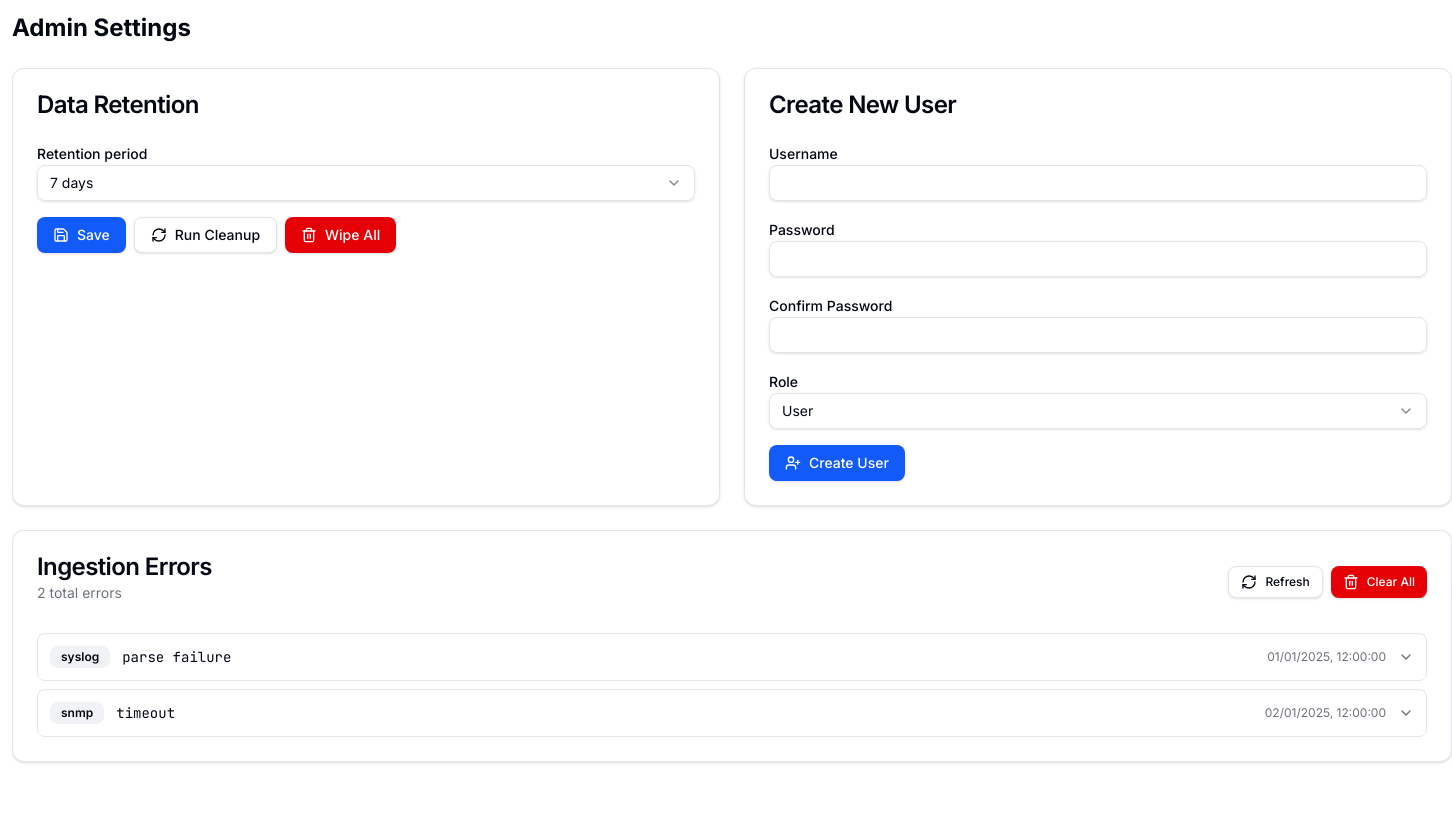
Scenario: AdminSettings - extended coverage › renders ingestion errors with expand/collapse
Expected: the text "timeout" is shown, 116,704 -> 175,722
Click to expand first error - click the button (first matching text is in the button)
Click the text "parse failure" at (177, 657), box 122,648 -> 231,666
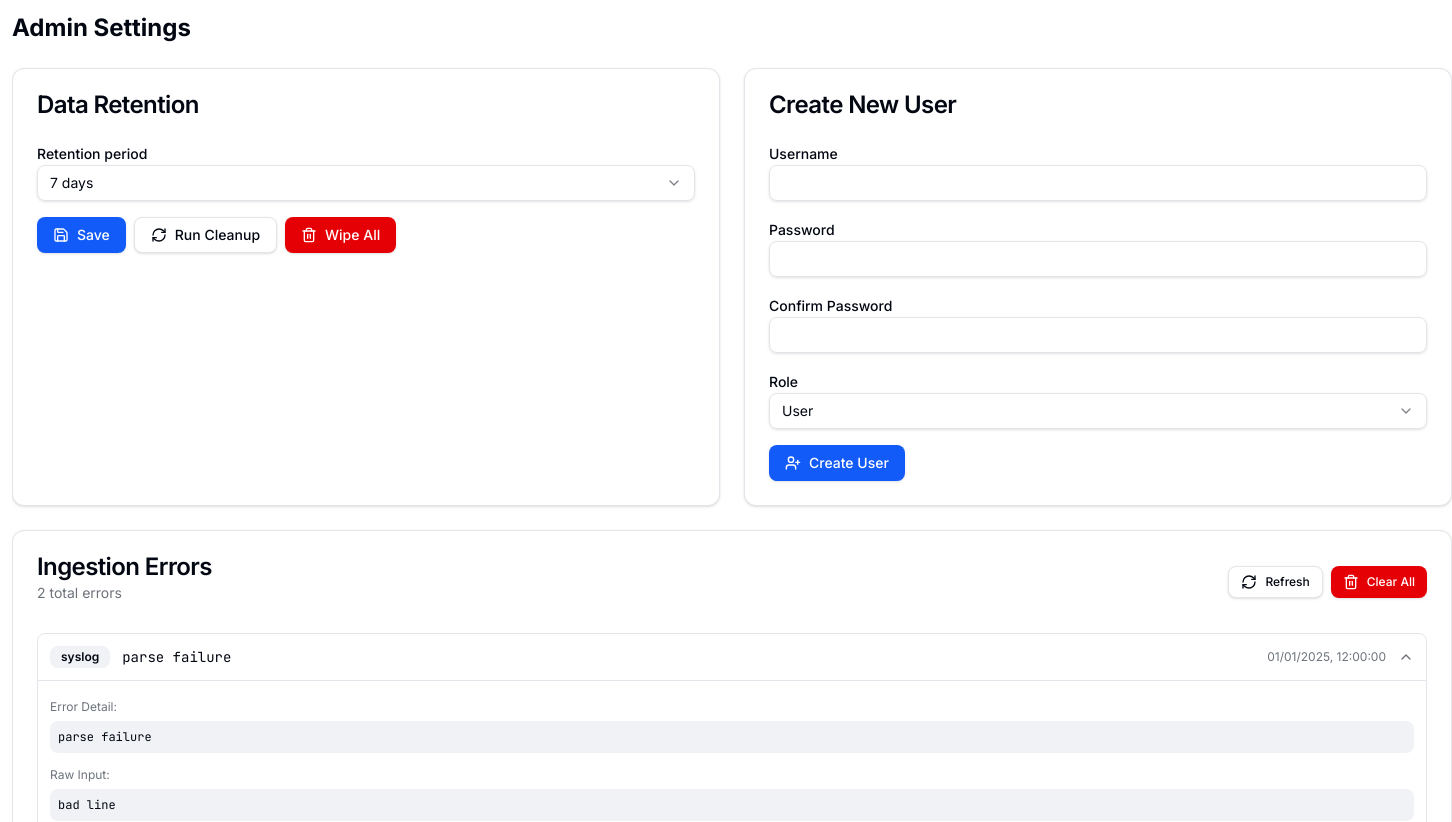
Result: the text "Raw Input:" is shown at 50,767 -> 110,782
Click to collapse
Click the 1st text "parse failure" at (177, 657), box 122,648 -> 231,666
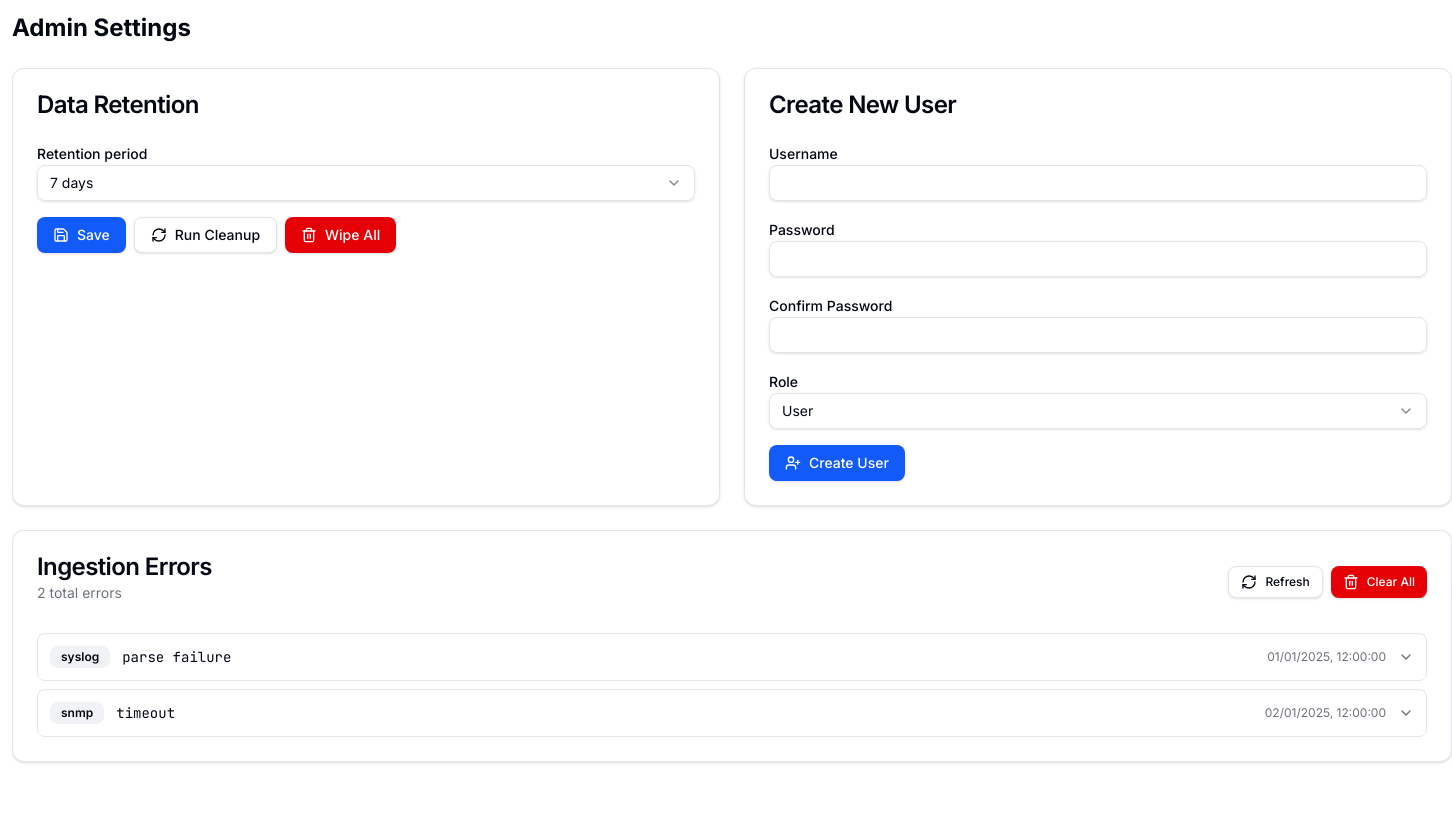
Result: the text "Raw Input:" is gone
